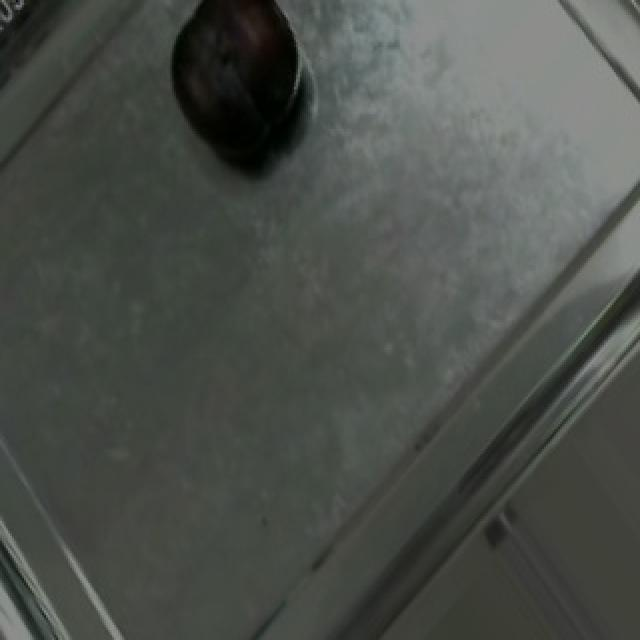Fruit: (150, 0, 320, 179)
